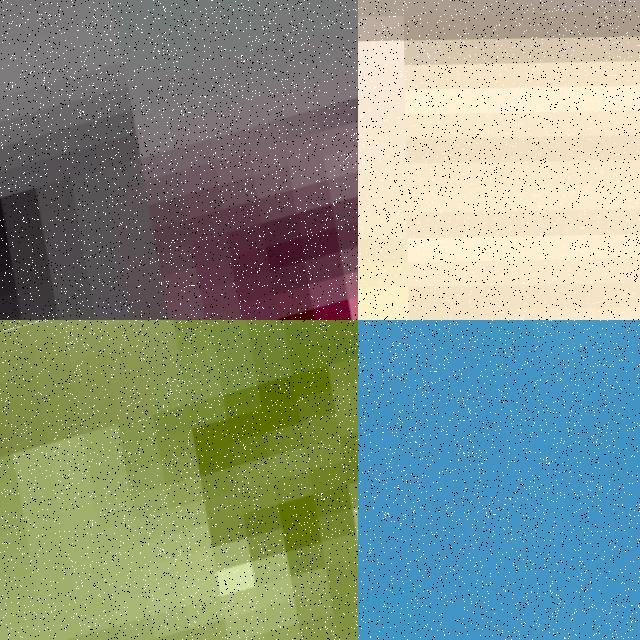drone: (0, 0, 358, 320), (0, 320, 358, 640), (358, 320, 640, 640)
